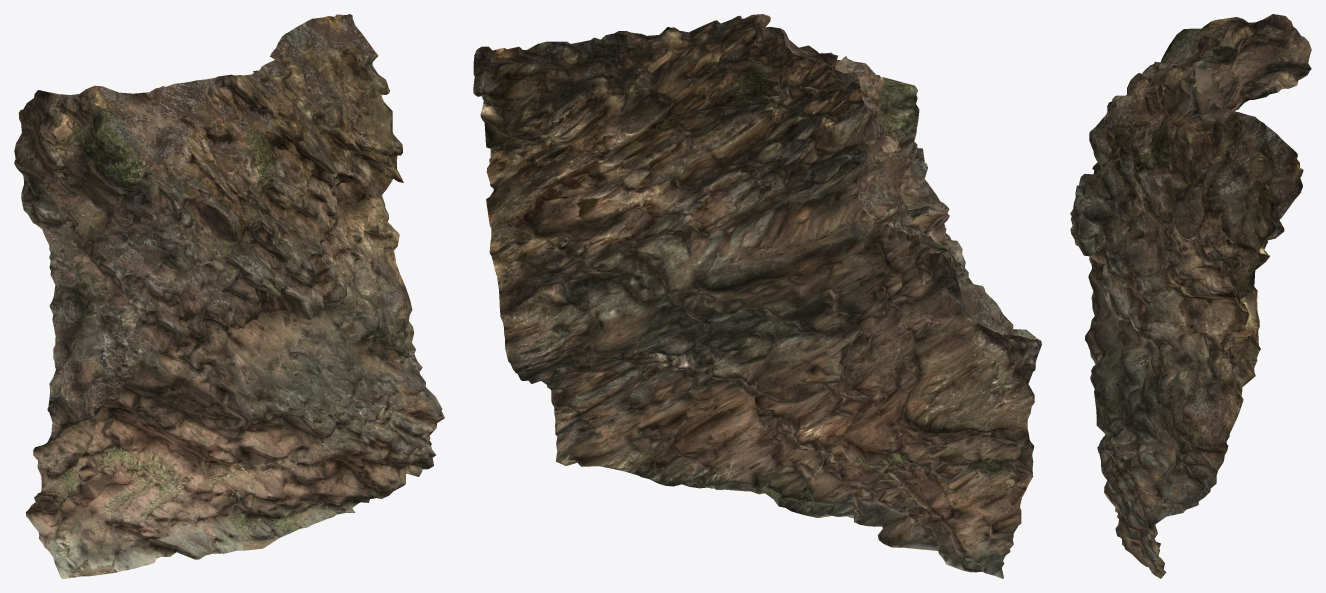
The model's file is mountainside.glb.
The picture shows the model from 3 angles, left to right: view 1: azimuth 30°, elevation 25°; view 2: azimuth 150°, elevation 25°; view 3: azimuth 270°, elevation 25°; orthographic projection. The views are drawn at different scales.
Parts seen in each view (by area): view 1: mountainside; view 2: mountainside; view 3: mountainside.
Part boxes in pixels (x1,y1,x2,y2): mountainside: (14, 14, 444, 578); mountainside: (473, 14, 1041, 578); mountainside: (1070, 14, 1311, 578).
Bounding box in the file's own units: 10.21 × 10.52 × 5.25.
1 material, 1 textured.
